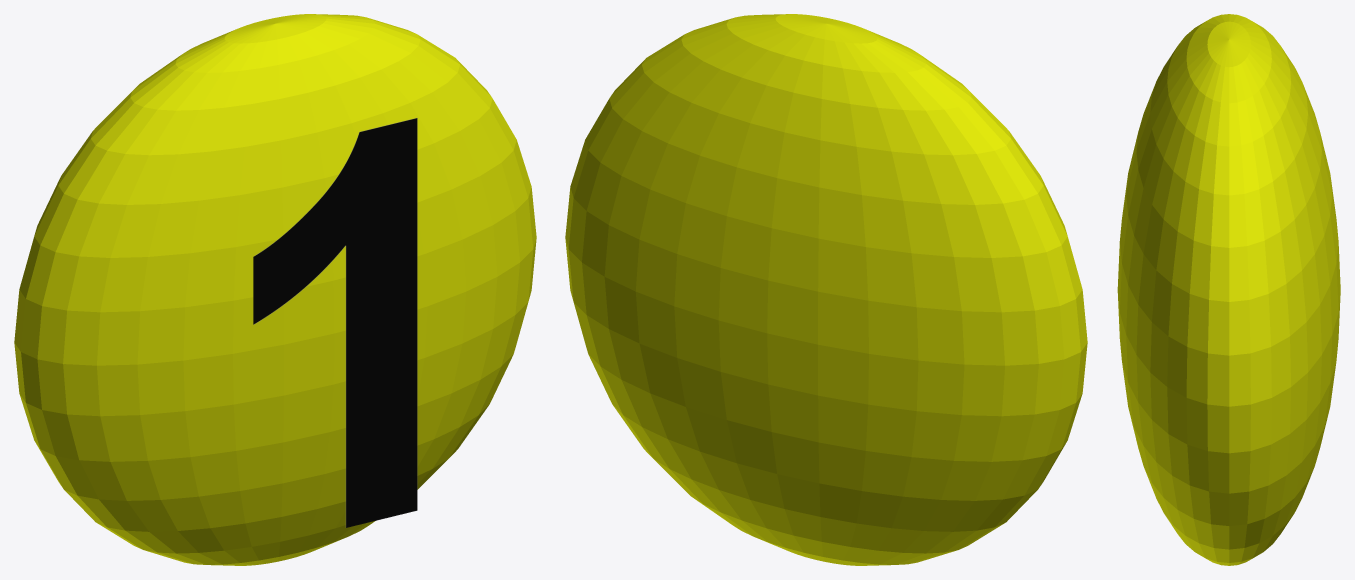
Rendered from numberMark1.glb.
3 views of the same model, side by side, from view 1: azimuth 30°, elevation 25°; view 2: azimuth 150°, elevation 25°; view 3: azimuth 270°, elevation 25° (orthographic). The views are drawn at different scales.
Visible parts, largest first — view 1: Sphere, 1; view 2: Sphere; view 3: Sphere.
Boxes of the visible parts, left/top/right/bottom form: Sphere: left=14, top=14, right=536, bottom=565; 1: left=253, top=118, right=417, bottom=527; Sphere: left=565, top=14, right=1087, bottom=565; Sphere: left=1117, top=14, right=1340, bottom=565.
Bounding box in the file's own units: 2 × 2 × 0.8126.
Materials: 2 (1 with a texture image).
